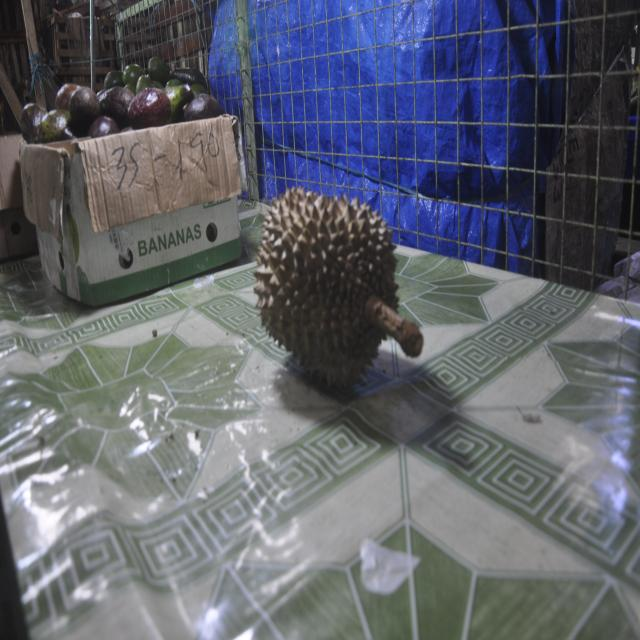mature: (254, 187, 423, 404)
